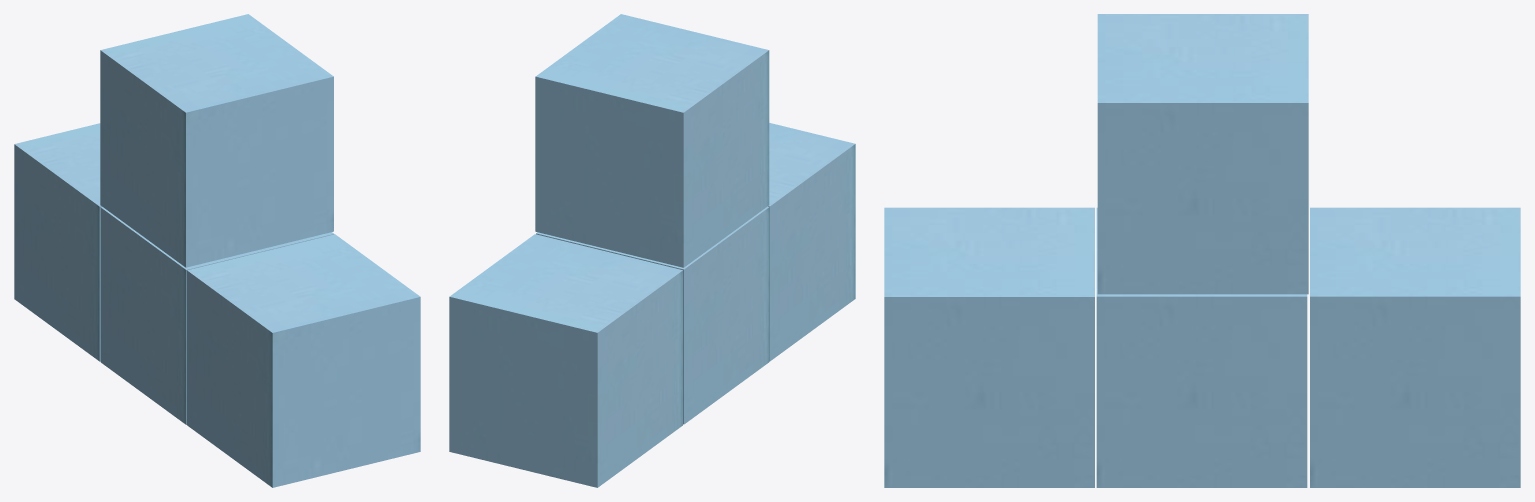
Rendered from blue.glb.
The picture shows the model from 3 angles, left to right: view 1: azimuth 30°, elevation 25°; view 2: azimuth 150°, elevation 25°; view 3: azimuth 270°, elevation 25°; orthographic projection. The views are drawn at different scales.
Parts seen in each view (by area): view 1: Cube.003; view 2: Cube.003; view 3: Cube.003.
Part boxes in pixels (x1=…): Cube.003: x1=14, y1=14, x2=420, y2=487; Cube.003: x1=449, y1=14, x2=855, y2=487; Cube.003: x1=884, y1=14, x2=1520, y2=487.
Size of the model in its own units: 0.0601 by 0.1208 by 0.1811.
Materials: 1 (1 with a texture image).
